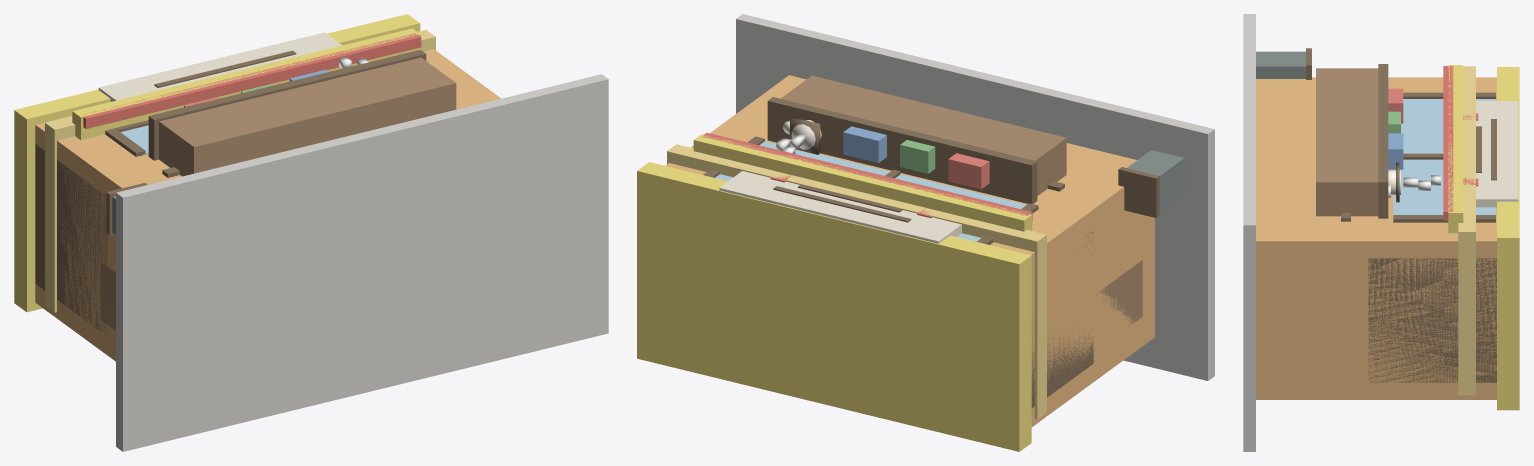
File: kiosk.fbx
3 renders of one model, left to right at view 1: azimuth 30°, elevation 25°; view 2: azimuth 150°, elevation 25°; view 3: azimuth 270°, elevation 25°, orthographic. The views are drawn at different scales.
Parts seen in each view (by area): view 1: GroundBase, ServiceCounter, KioskBody, SideTrim_Left, KioskRoof, KioskAwning_Trim, KioskAwning, SignBoard, KioskBody_TopBand, ServiceCounter_Top, SideShelf, SignLine_01; view 2: KioskRoof, GroundBase, KioskBody, ServiceCounter, ServiceCounter_Top, KioskBody_TopBand, KioskAwning, SignBoard, SideTrim_Left, KioskAwning_Trim, TrashBin, TrashBin_Lid (+6 smaller); view 3: KioskBody, SideTrim_Right, ServiceCounter, KioskRoof, GroundBase, KioskBody_TopBand, ServingWindow, SignBoard, KioskAwning, ServiceCounter_Top, KioskAwning_Trim, TrashBin (+7 smaller).
Part boxes in pixels (bbox=[...]): GroundBase: bbox=[116, 74, 608, 451]; ServiceCounter: bbox=[159, 57, 456, 176]; KioskBody: bbox=[35, 49, 500, 361]; SideTrim_Left: bbox=[35, 144, 107, 335]; KioskRoof: bbox=[14, 14, 420, 312]; KioskAwning_Trim: bbox=[83, 33, 421, 128]; KioskAwning: bbox=[72, 28, 420, 140]; SignBoard: bbox=[98, 32, 341, 101]; KioskBody_TopBand: bbox=[45, 29, 435, 312]; ServiceCounter_Top: bbox=[148, 49, 426, 160]; SideShelf: bbox=[100, 262, 115, 330]; SignLine_01: bbox=[154, 50, 296, 87]; KioskRoof: bbox=[637, 162, 1031, 451]; GroundBase: bbox=[736, 14, 1214, 380]; KioskBody: bbox=[665, 75, 1154, 426]; ServiceCounter: bbox=[781, 75, 1066, 195]; ServiceCounter_Top: bbox=[767, 97, 1037, 203]; KioskBody_TopBand: bbox=[667, 144, 1046, 419]; KioskAwning: bbox=[693, 134, 1032, 231]; SignBoard: bbox=[719, 171, 961, 243]; SideTrim_Left: bbox=[1031, 231, 1093, 408]; KioskAwning_Trim: bbox=[702, 132, 1032, 221]; TrashBin: bbox=[1127, 150, 1184, 210]; TrashBin_Lid: bbox=[1118, 167, 1159, 217]; KioskBody: bbox=[1256, 77, 1496, 399]; SideTrim_Right: bbox=[1368, 258, 1496, 382]; ServiceCounter: bbox=[1316, 68, 1378, 216]; KioskRoof: bbox=[1497, 67, 1519, 410]; GroundBase: bbox=[1243, 14, 1255, 451]; KioskBody_TopBand: bbox=[1458, 66, 1475, 395]; ServingWindow: bbox=[1393, 99, 1495, 214]; SignBoard: bbox=[1476, 101, 1518, 208]; KioskAwning: bbox=[1448, 65, 1463, 233]; ServiceCounter_Top: bbox=[1378, 64, 1388, 218]; KioskAwning_Trim: bbox=[1443, 66, 1453, 220]; TrashBin: bbox=[1256, 51, 1305, 78].
Bounding box in the file's own units: 400 × 200 × 221.
